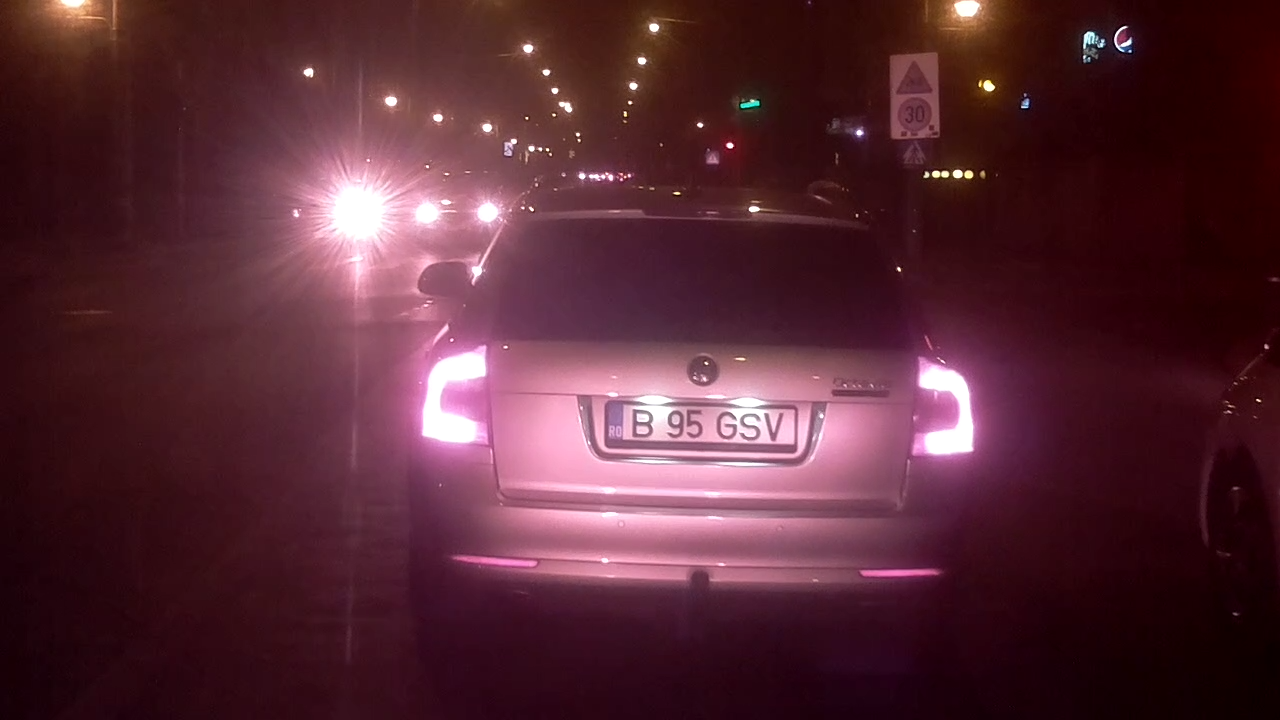license-plate: (600, 393, 803, 454)
